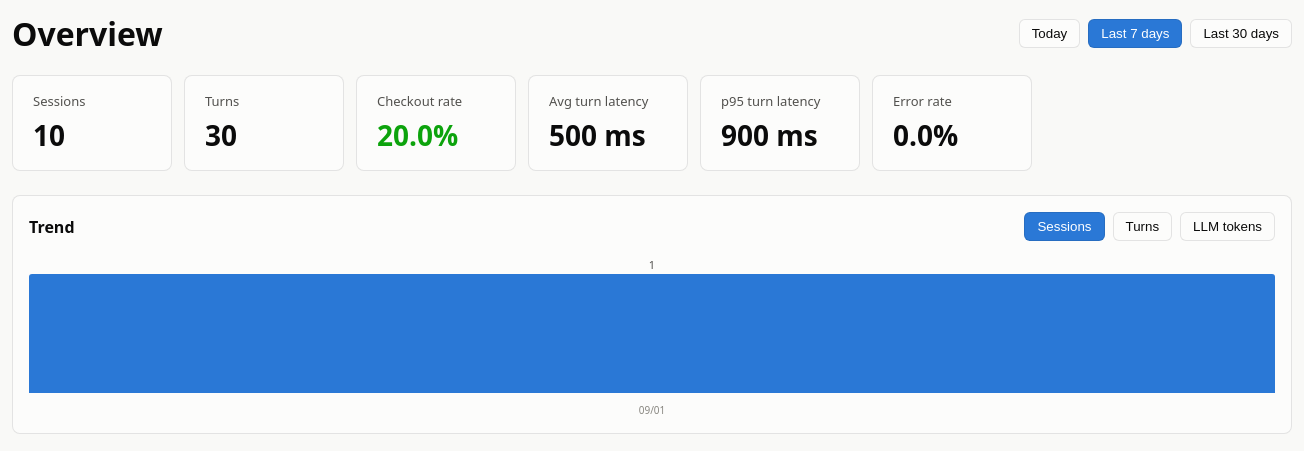
Test: Overview LLM capacity gauge › plots real LLM token consumption as a third trend toggle
The width and height of the screenshot is (1304, 451).
Click the button "LLM tokens".
click(1228, 226)  # box [1180,212,1275,241]
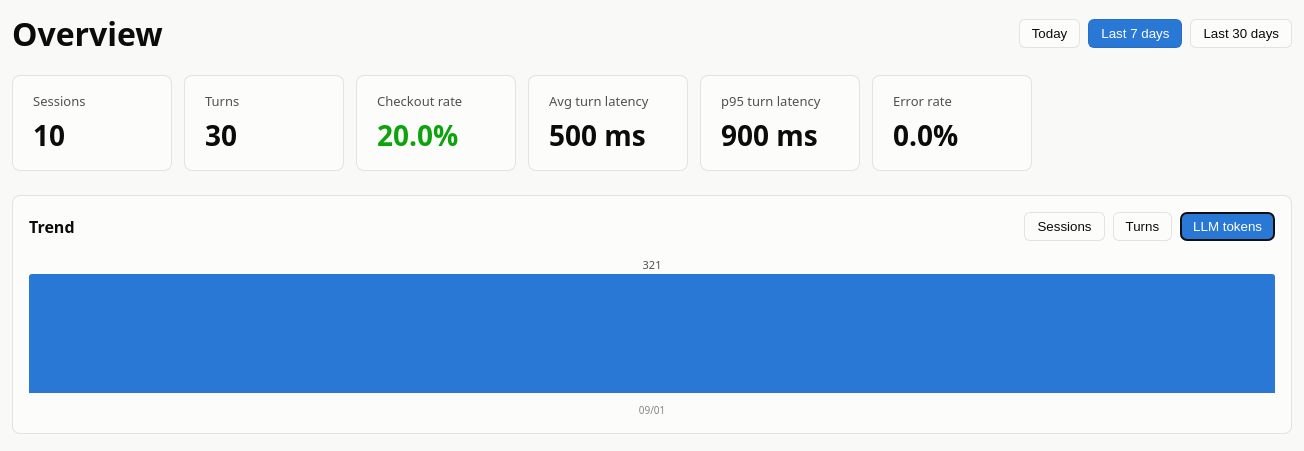
Expected: the picture named "LLM tokens per day" is shown, [29,257,1275,417]
Expected: the text "321" is shown, [642,257,661,272]
